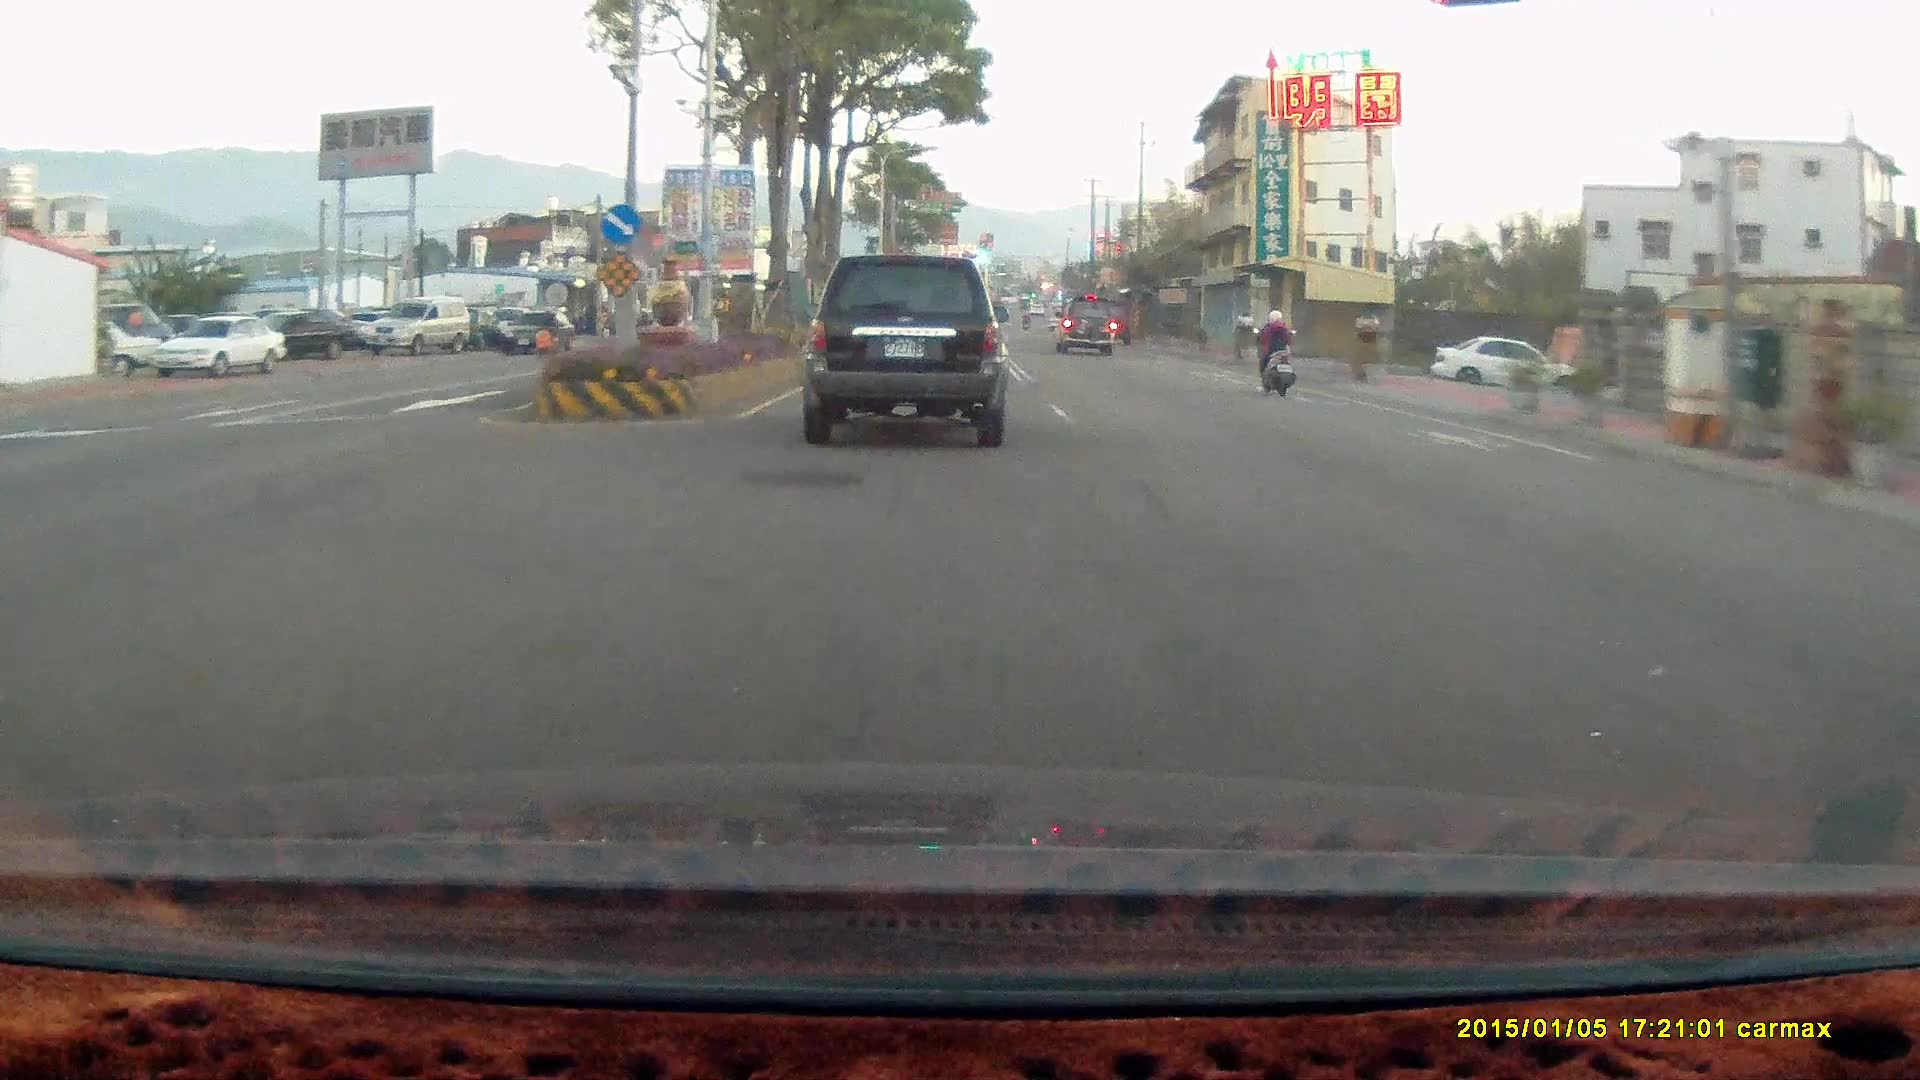rider: (1243, 302, 1307, 402), (1250, 301, 1295, 392), (530, 305, 562, 362)
vehicle: (797, 245, 1010, 446), (797, 252, 1010, 447), (1427, 332, 1582, 391), (1435, 338, 1590, 396), (149, 311, 287, 376), (151, 312, 288, 376), (363, 294, 470, 353), (367, 291, 474, 350), (256, 303, 366, 358), (250, 308, 366, 358), (1051, 292, 1115, 352), (1058, 294, 1116, 357), (507, 308, 581, 356), (505, 306, 578, 353)
